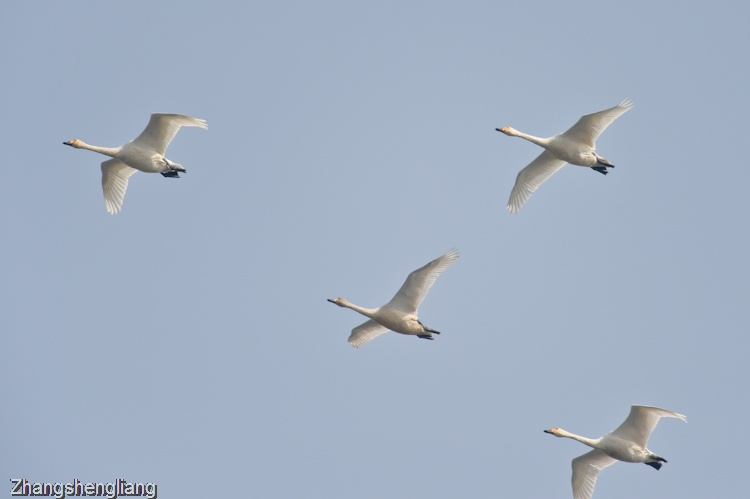bird: (493, 99, 633, 213), (56, 110, 208, 214), (538, 403, 689, 499), (325, 248, 458, 353)
